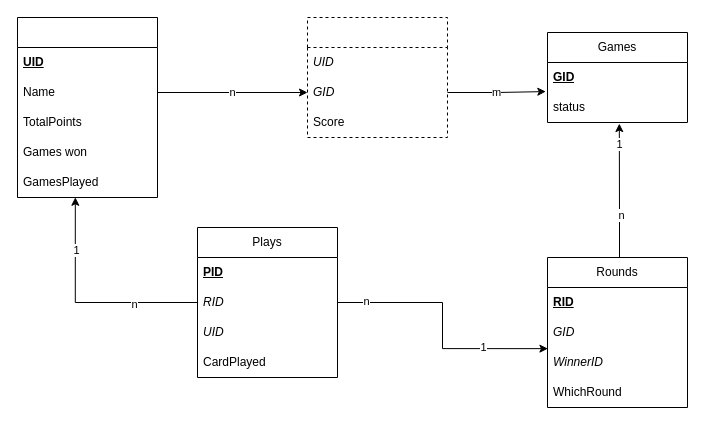
This 705x425 diagram has some shape labels left out. Here are the shapes that lost their labels. From the top down, the box of each, then its label:
(306, 16, 448, 138): User-Game
(16, 16, 158, 198): User
